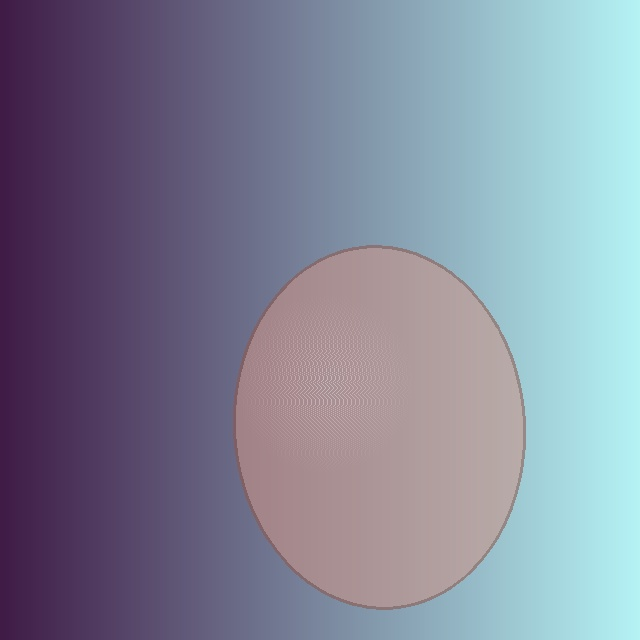lens: (234, 246, 524, 608)
